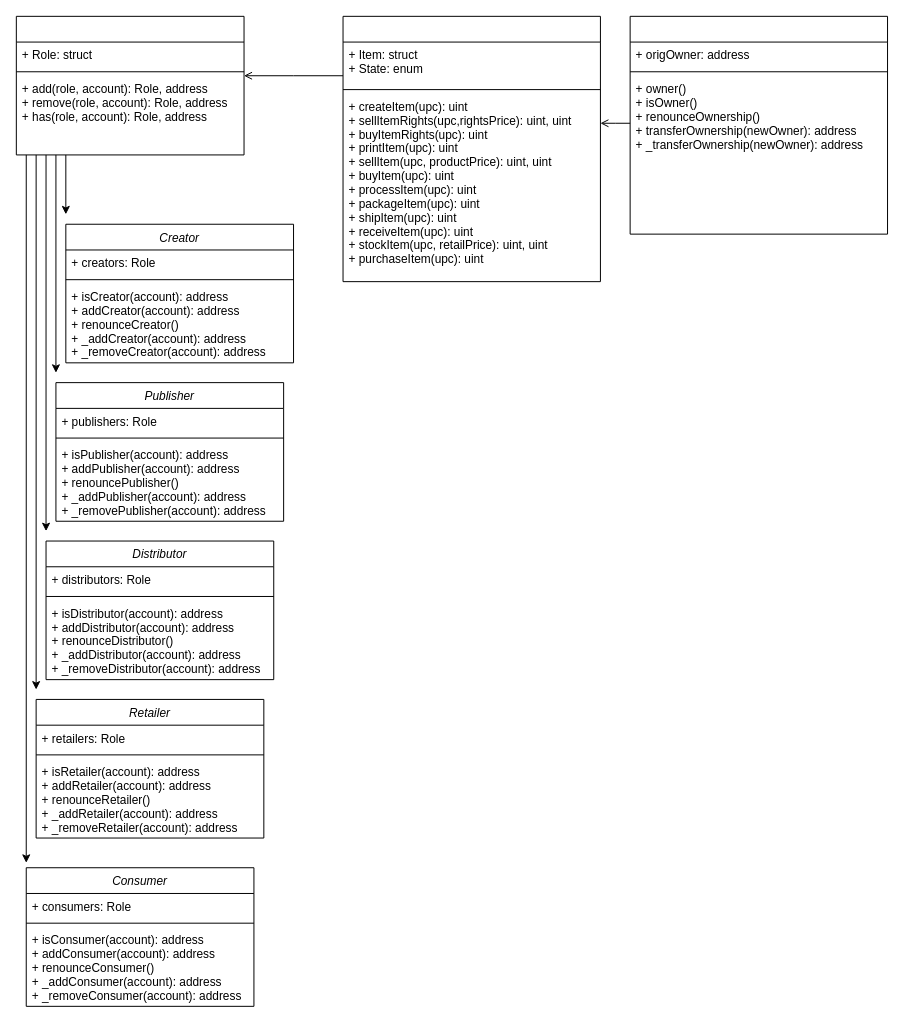
This 904x1023 diagram has some shape labels left out. The box of each missing label's shape, as (x1, y1, x2, y2) in pixels:
AccessControl: (15, 15, 244, 155)
Base: (342, 15, 600, 282)
Core: (629, 15, 888, 234)
